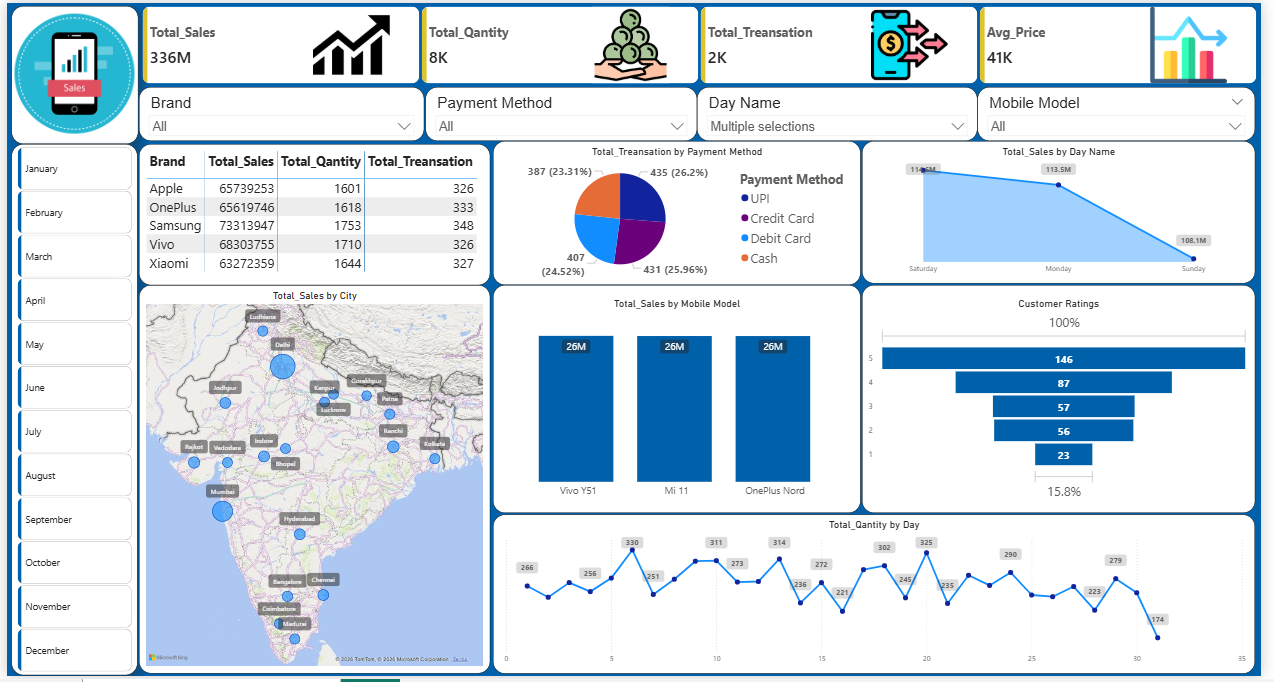

The page's visual inventory and layout, read from the dashboard file:
{"tool":"powerbi","page":{"name":"Mobile Sales Dashboard","canvas":[2090,1121],"ordinal":0},"visuals":[{"type":"shape","box":[8,4,211,230],"z":0},{"type":"image","box":[12.5,5,200,225],"z":1000},{"type":"shape","box":[7.5,235,210,885],"z":2000},{"type":"advancedSlicerVisual","fields":{"Values":["Sheet1.Date.Variation.Date Hierarchy.Month"]},"box":[12.5,235,200,885],"z":3000},{"type":"cardVisual","fields":{"Data":["Sheet1.Total_SALES","Sheet1.Total_Qantity","Sheet1.Total_Treansation","Sheet1.Avg_Price"]},"box":[220,0,1870,140],"z":4000},{"type":"map","fields":{"Category":["Sheet1.City"],"Size":["Sheet1.Total_SALES"]},"box":[220,470,585,647.5],"z":5000},{"type":"lineChart","fields":{"Category":["Sheet1.Date.Variation.Date Hierarchy.Month","Sheet1.Date.Variation.Date Hierarchy.Day"],"Y":["Sheet1.Total_Qantity"]},"box":[811,852,1270,265],"z":6000},{"type":"clusteredColumnChart","fields":{"Category":["Sheet1.Mobile Model"],"Y":["Sheet1.Total_Sales"]},"box":[810,470,612.5,380],"z":7000},{"type":"pieChart","fields":{"Category":["Sheet1.Payment Method"],"Y":["Sheet1.Total_Treansation"]},"box":[810,230,612.5,240],"z":8000},{"type":"funnel","title":"Customer Ratings","fields":{"Category":["Sheet1.Customer Ratings"],"Y":["CountNonNull(Sheet1.Customer Ratings)"]},"box":[1425,470,655,380],"z":9000},{"type":"areaChart","fields":{"Y":["Sheet1.Total_Sales"],"Category":["Sheet1.Day Name"]},"box":[1425,230,655,237.5],"z":10000},{"type":"tableEx","fields":{"Values":["Sheet1.Brand","Sheet1.Total_Sales","Sheet1.Total_Qantity","Sheet1.Total_Treansation"]},"box":[220,235,585,235],"z":11000},{"type":"slicer","fields":{"Values":["Sheet1.Mobile Model"]},"box":[1617.5,140,462.5,90],"z":12000},{"type":"slicer","fields":{"Values":["Sheet1.Payment Method"]},"box":[697.5,140,452.5,90],"z":13000},{"type":"slicer","fields":{"Values":["Sheet1.Brand"]},"box":[220,140,475,90],"z":14000},{"type":"slicer","fields":{"Values":["Sheet1.Day Name"]},"box":[1150,140,467.5,90],"z":15000}]}

Visuals, with their boxes in screenshot pixels (x1, y1, x2, y2), scaled from the page's 2090x1121 canvas onto the 1274x682 screenshot:
shape: locate(5, 2, 133, 142)
image: locate(8, 3, 130, 140)
shape: locate(5, 143, 133, 681)
advancedSlicerVisual - Sheet1.Date.Variation.Date Hierarchy.Month: locate(8, 143, 130, 681)
cardVisual - Sheet1.Total_SALES x Sheet1.Total_Qantity: locate(134, 0, 1273, 85)
map - Sheet1.City x Sheet1.Total_SALES: locate(134, 286, 491, 680)
lineChart - Sheet1.Date.Variation.Date Hierarchy.Month x Sheet1.Date.Variation.Date Hierarchy.Day: locate(494, 518, 1269, 680)
clusteredColumnChart - Sheet1.Mobile Model x Sheet1.Total_Sales: locate(494, 286, 867, 517)
pieChart - Sheet1.Payment Method x Sheet1.Total_Treansation: locate(494, 140, 867, 286)
"Customer Ratings" funnel: locate(869, 286, 1268, 517)
areaChart - Sheet1.Total_Sales x Sheet1.Day Name: locate(869, 140, 1268, 284)
tableEx - Sheet1.Brand x Sheet1.Total_Sales: locate(134, 143, 491, 286)
slicer - Sheet1.Mobile Model: locate(986, 85, 1268, 140)
slicer - Sheet1.Payment Method: locate(425, 85, 701, 140)
slicer - Sheet1.Brand: locate(134, 85, 424, 140)
slicer - Sheet1.Day Name: locate(701, 85, 986, 140)
